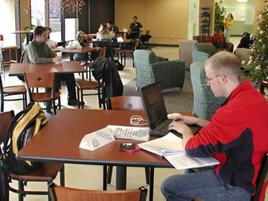person: (162, 51, 267, 200)
